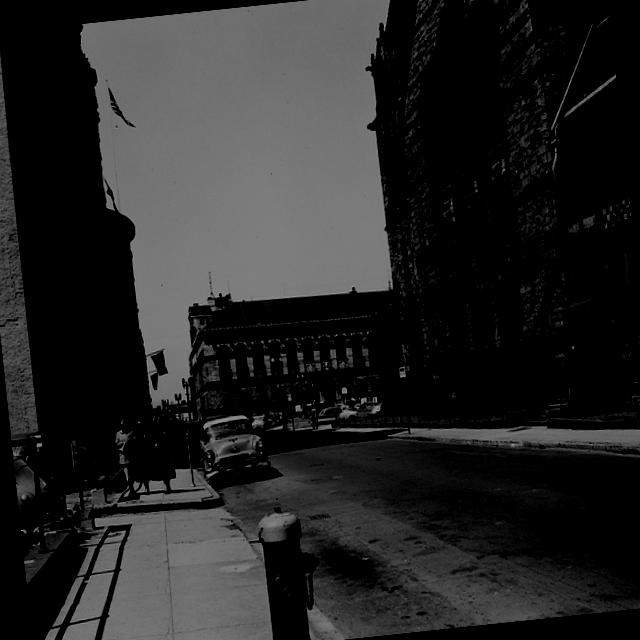Vehicle: (196, 411, 271, 487), (12, 440, 64, 536), (316, 404, 357, 426), (250, 413, 270, 432)
